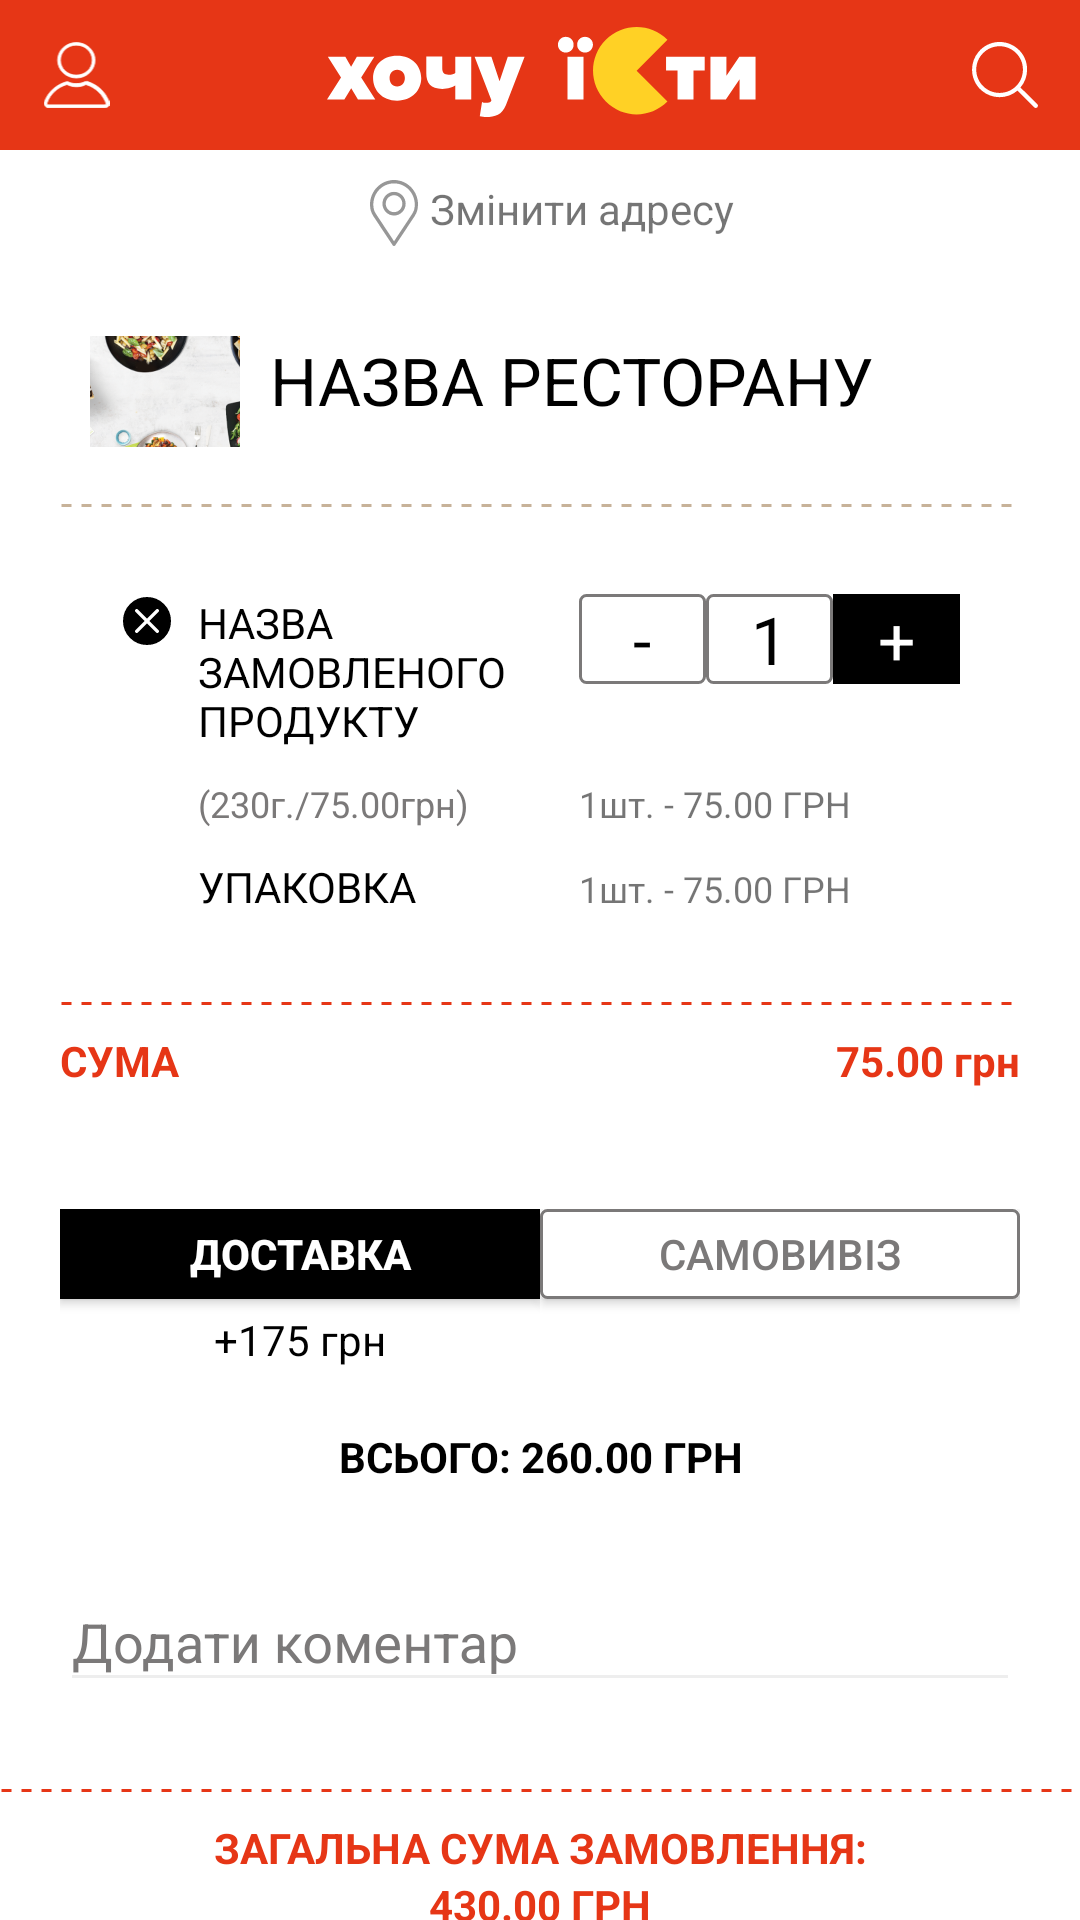

Named icons in this screenshot (1080*1920) and their centers, [x,y]:
deletein bucket: [147,621]
search: [1005,75]
user: [77,75]
